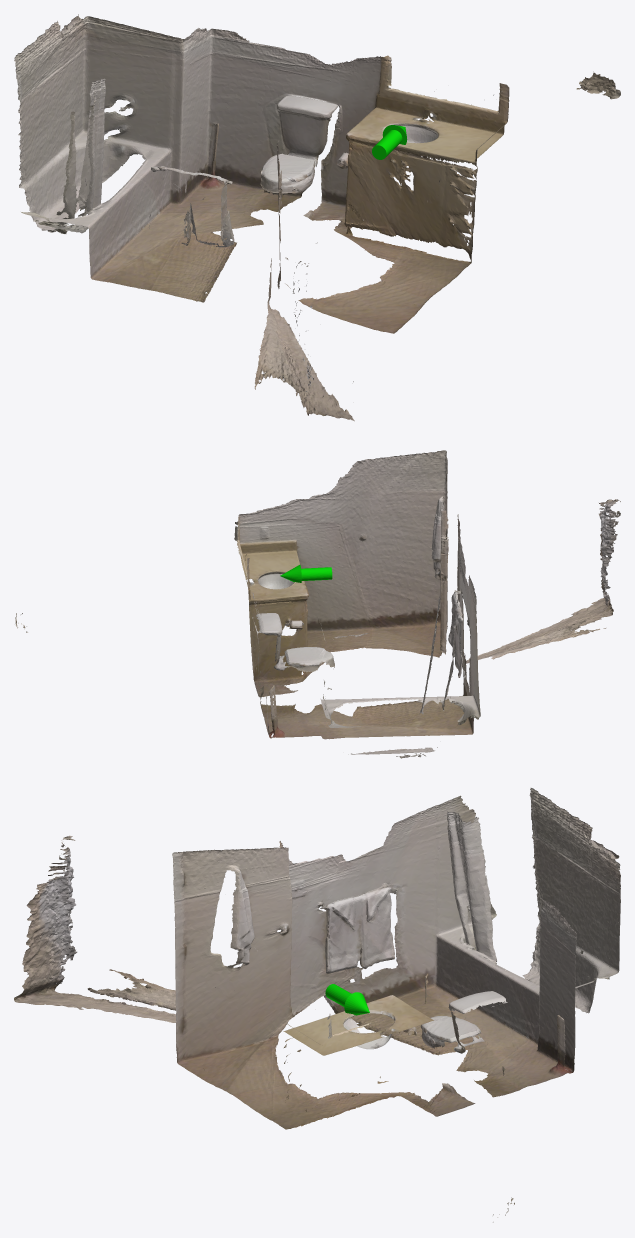
The model's file is situation_8.glb.
The picture shows the model from 3 angles, top to bottom: view 1: azimuth 30°, elevation 25°; view 2: azimuth 150°, elevation 25°; view 3: azimuth 270°, elevation 25°; orthographic projection. The views are drawn at different scales.
Visible parts, largest first — view 1: world; view 2: world; view 3: world.
Part boxes in pixels (<box>): world: <box>14,14,620,421</box>; world: <box>15,450,620,758</box>; world: <box>14,788,620,1222</box>.
Size of the model in its own units: 5.19 by 1.87 by 4.73.
